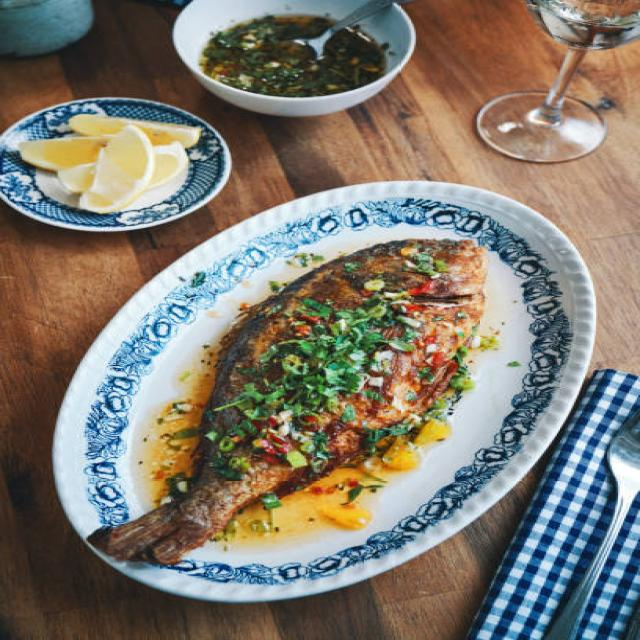Peixe: (87, 236, 490, 566)
